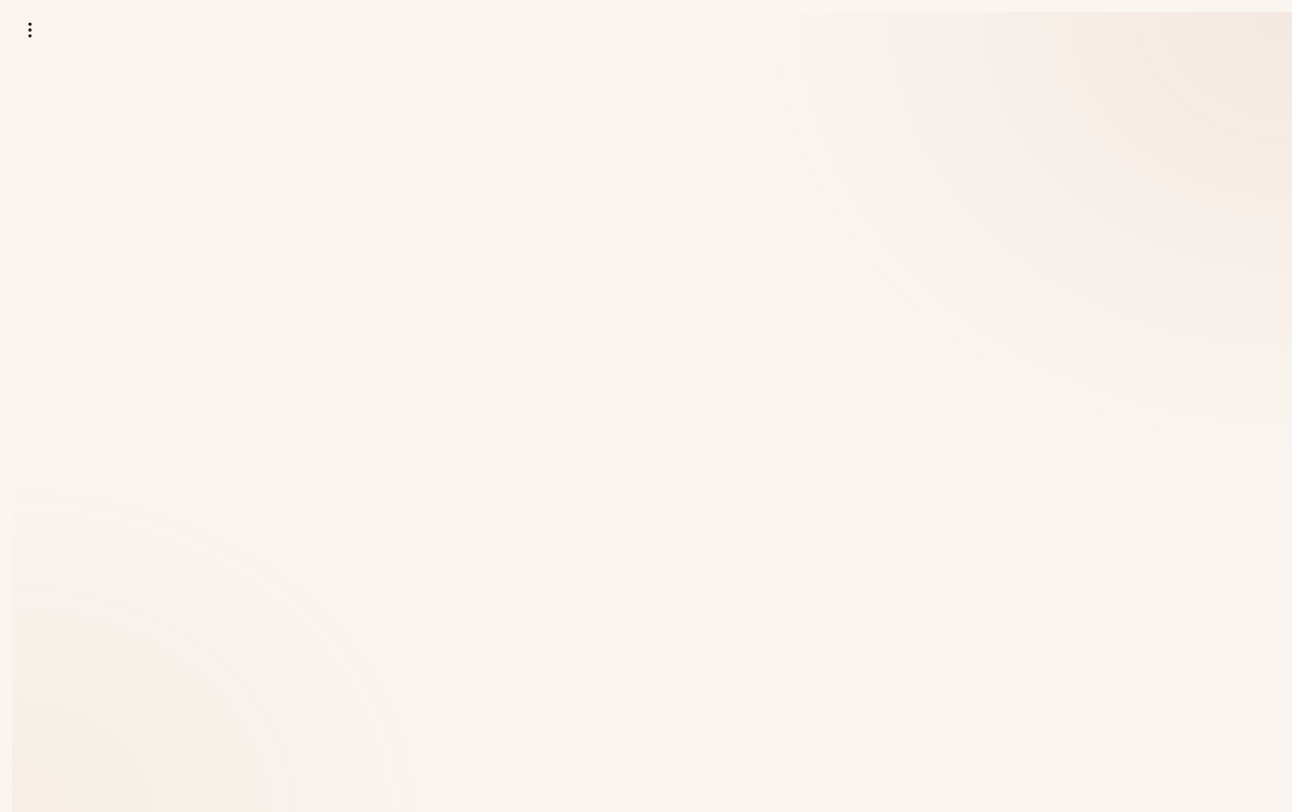
Test: ＋ appears only next to lists that already hold the video
Click the button named "Add Squat to a list": [30, 30] box [12, 12, 48, 48]
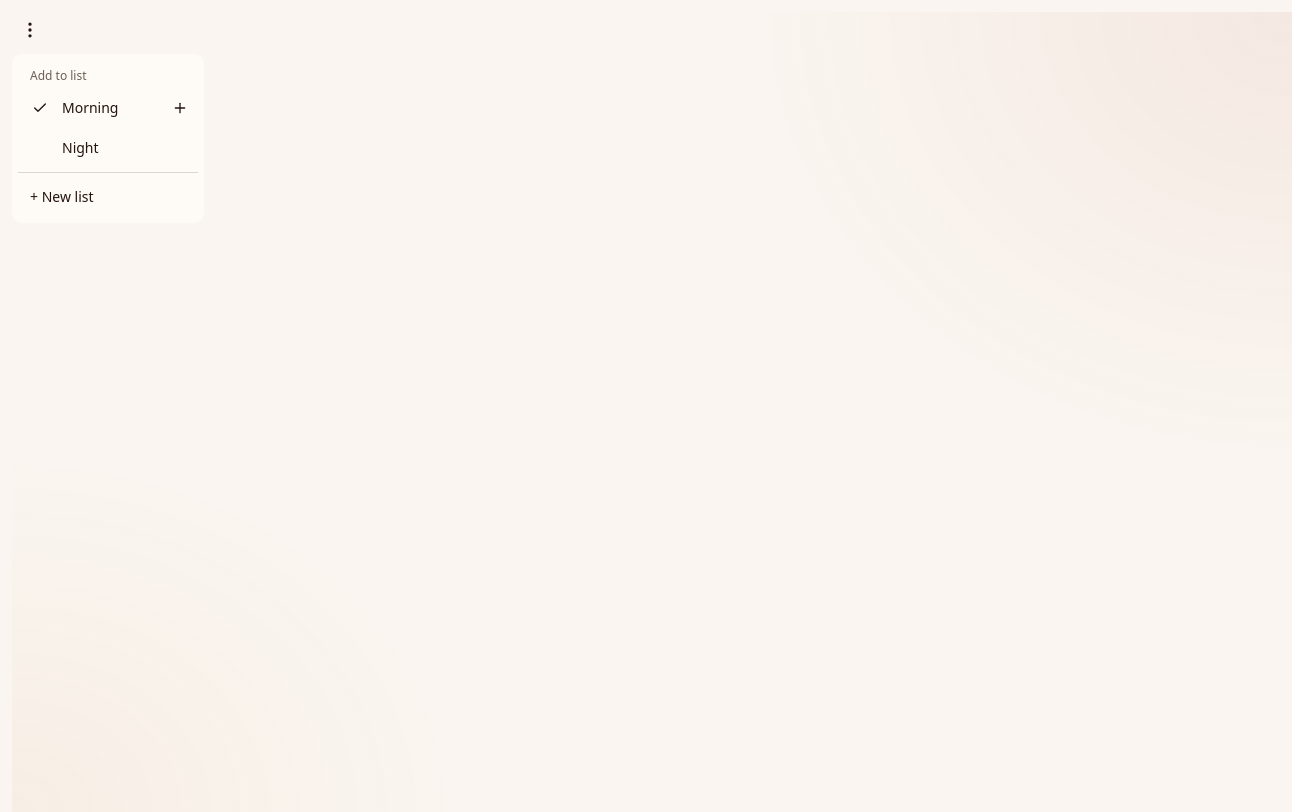
Now the menu item named "Add once more to Morning" is shown, box [172, 100, 188, 116]
